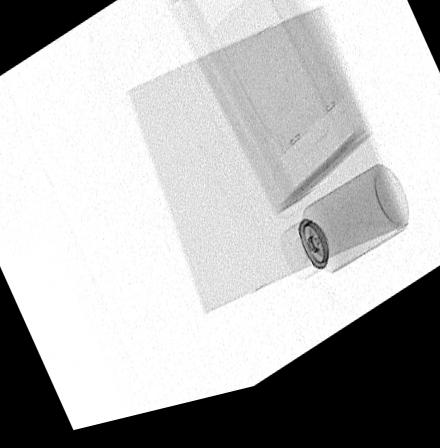Sprayer: (279, 182, 408, 295)
